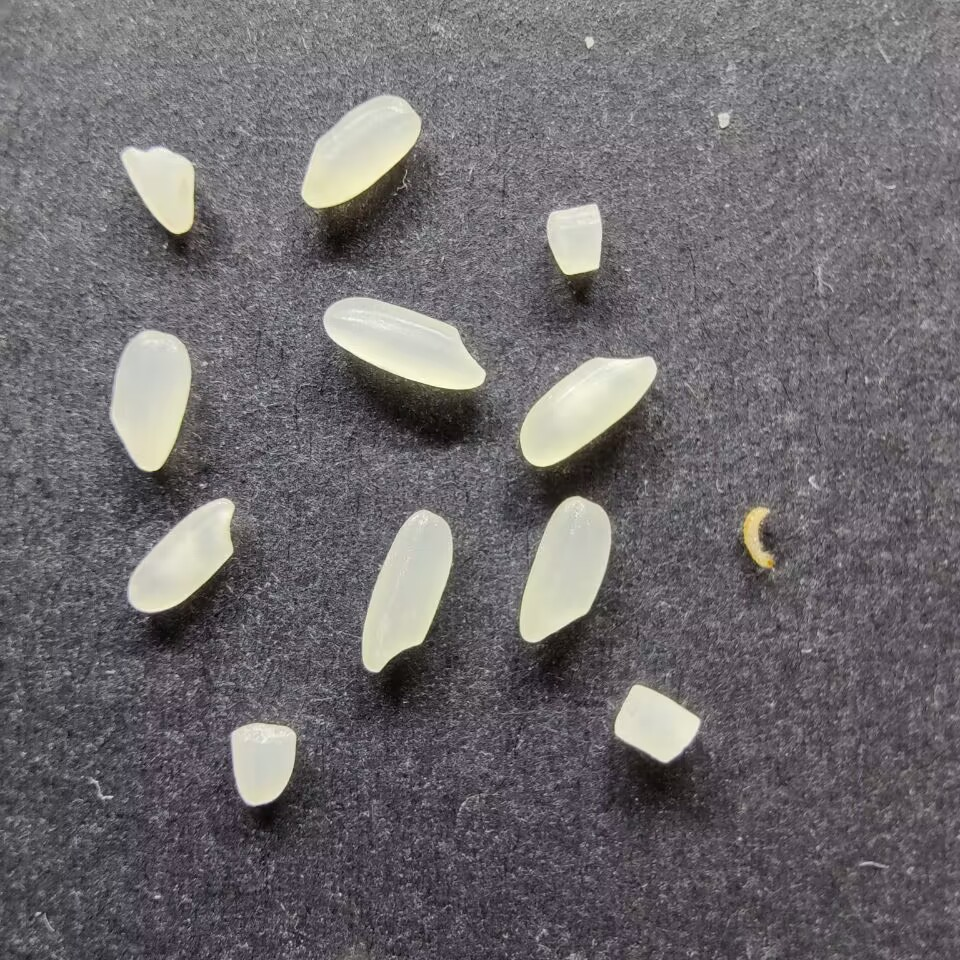broken: (612, 683, 701, 763), (119, 145, 196, 234), (230, 723, 296, 805), (545, 202, 602, 275)
others: (741, 504, 782, 573)
rice: (519, 354, 656, 467), (361, 507, 453, 674), (322, 297, 486, 390), (518, 495, 613, 643), (300, 94, 421, 208), (126, 496, 236, 613), (109, 329, 192, 472)
